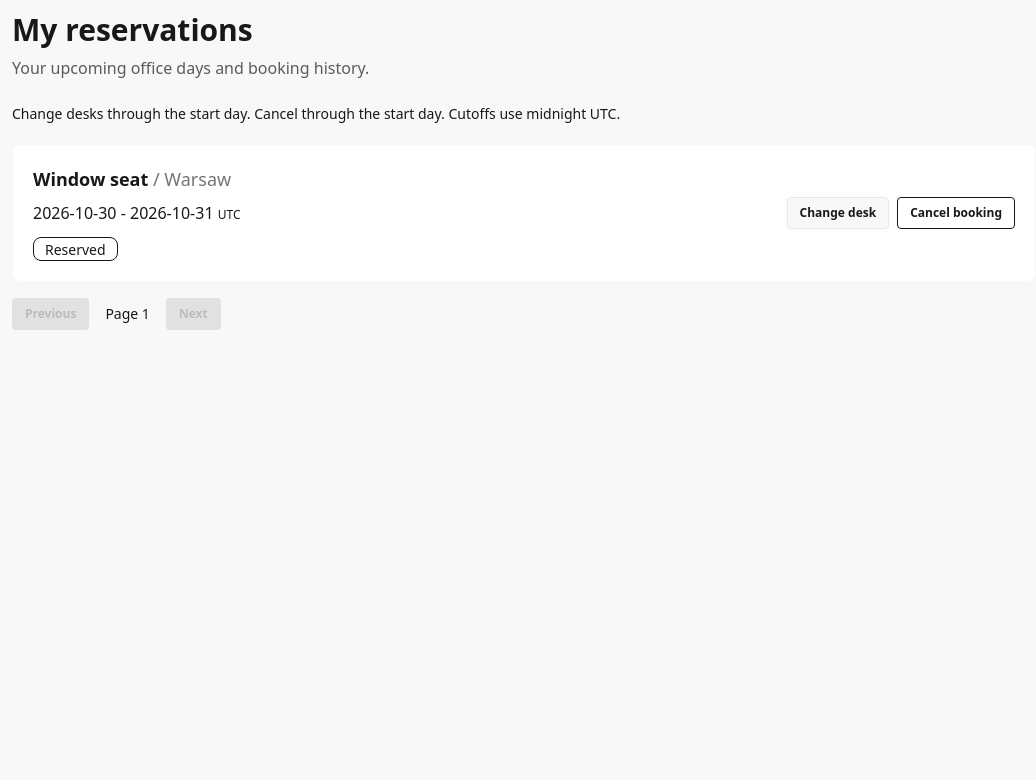
Test: offers owner actions for reservations starting in 0 days
The width and height of the screenshot is (1036, 780).
Expected: the button "Cancel booking" is enabled, [897,197,1015,229]
Click the button "Change desk" at [838, 213], box [787,197,889,229]
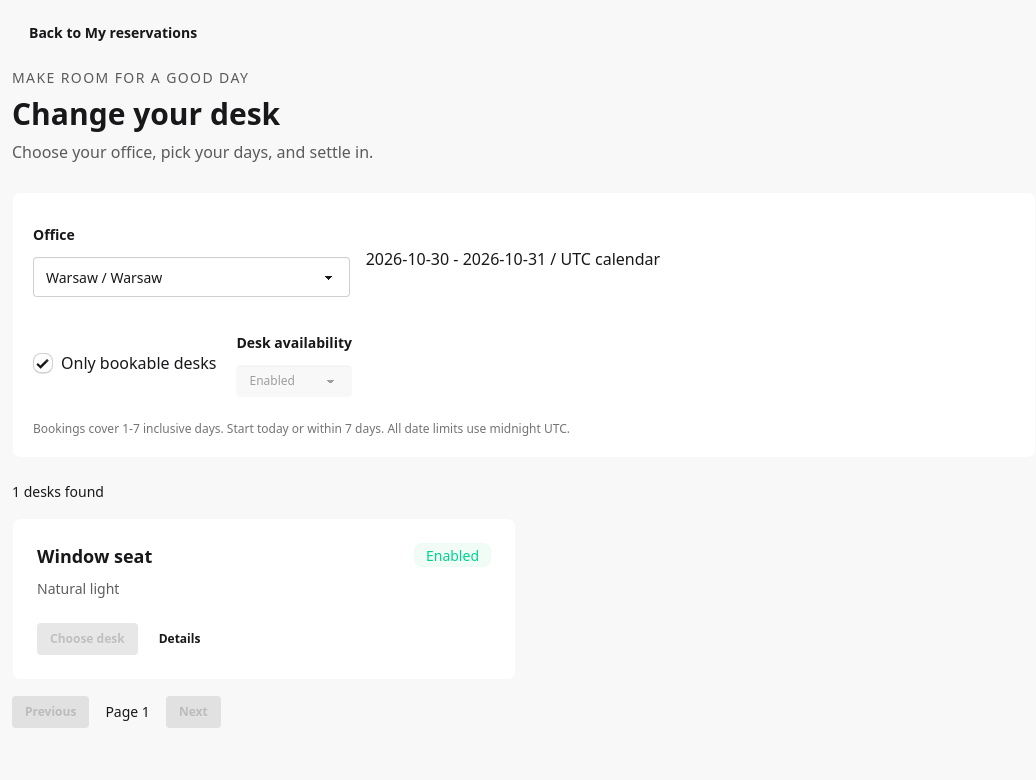
Expected: the heading "Change your desk" is shown, [12,93,280,134]
